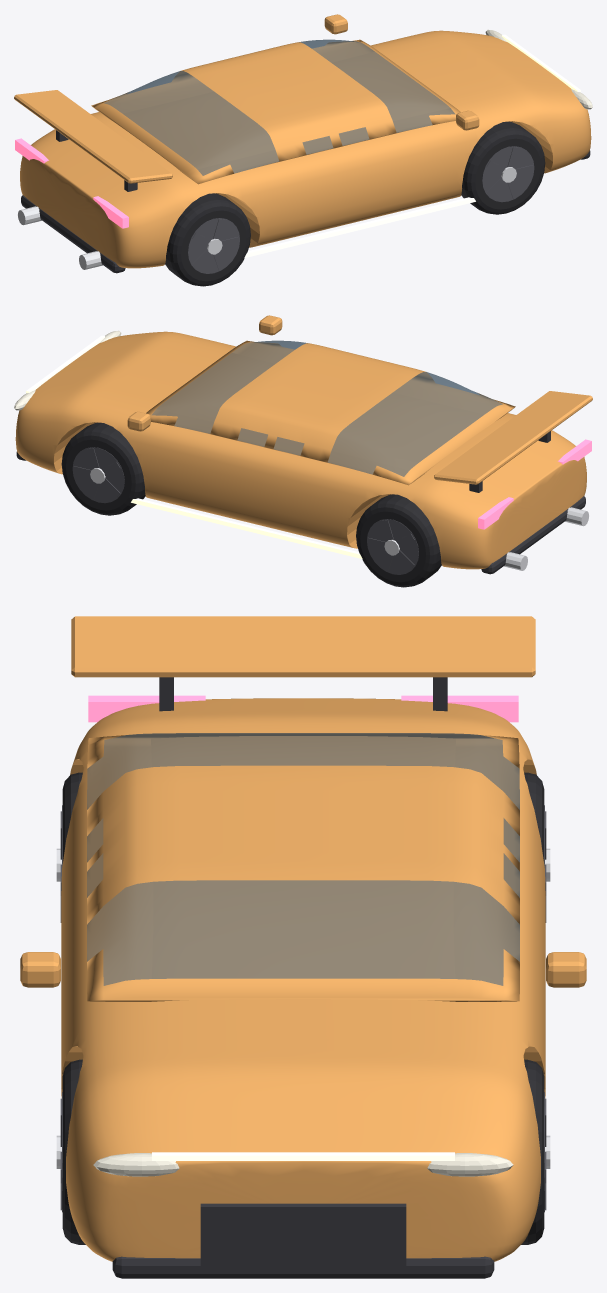
Rendered from turbo_vortex.fbx.
The picture shows the model from 3 angles, top to bottom: view 1: azimuth 30°, elevation 25°; view 2: azimuth 150°, elevation 25°; view 3: azimuth 270°, elevation 25°; orthographic projection. The views are drawn at different scales.
Parts seen in each view (by area): view 1: Body.012, Glass.012, Tire.012, Rim.012, Neon.002, Trim.012, Chrome.012, TailLight.012; view 2: Body.012, Glass.012, Tire.012, Rim.012, Neon.002, Trim.012, Chrome.012, TailLight.012; view 3: Body.012, Glass.012, Trim.012, Tire.012, HeadLight.012, TailLight.012, Neon.002, Rim.012.
Boxes of the visible parts, x1,y1,x2,y2 form: Body.012: (14,14,591,268); Glass.012: (104,39,454,175); Tire.012: (165,121,545,286); Rim.012: (188,146,534,273); Neon.002: (244,34,580,257); Trim.012: (21,130,590,273); Chrome.012: (18,167,516,269); TailLight.012: (15,138,128,228); Body.012: (15,315,592,569); Glass.012: (152,340,502,476); Tire.012: (61,422,441,587); Rim.012: (72,447,418,574); Neon.002: (26,335,362,558); Trim.012: (16,431,585,574); Chrome.012: (90,468,588,570); TailLight.012: (478,439,591,529); Body.012: (20,616,586,1261); Glass.012: (87,733,519,985); Trim.012: (112,677,494,1278); Tire.012: (62,772,544,1244); HeadLight.012: (93,1153,513,1176); TailLight.012: (88,695,518,722); Neon.002: (152,1152,454,1160); Rim.012: (60,805,546,1212).
Size of the model in its own units: 1540 by 379 by 765.
